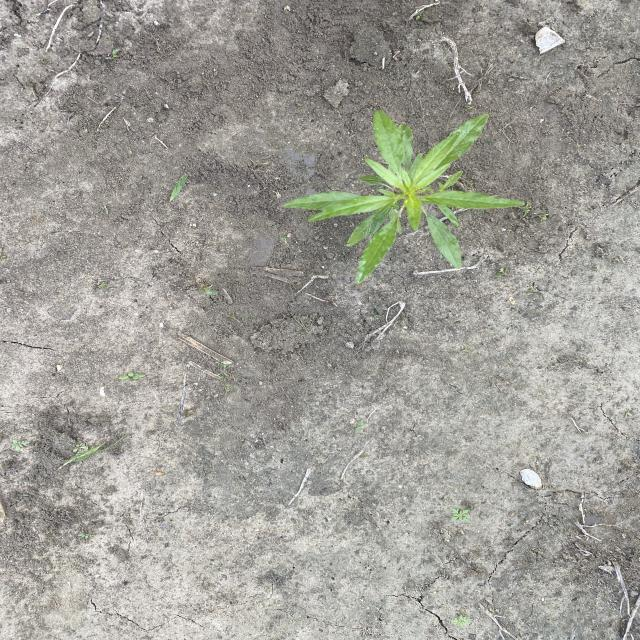Waterhemp: (280, 108, 528, 285)
